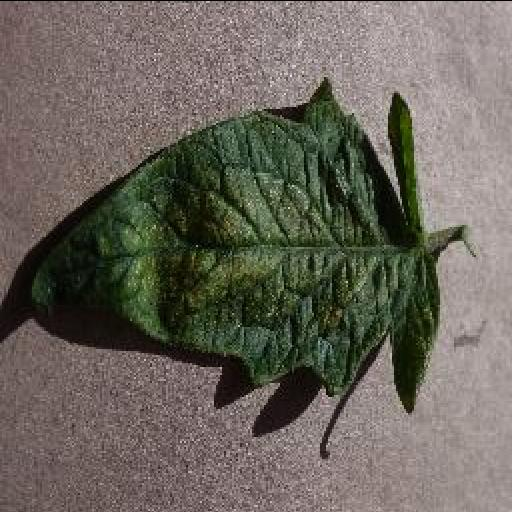disease_tomato: (26, 76, 438, 416)
